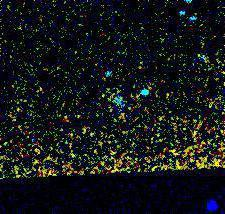star: (89, 78, 119, 108)
